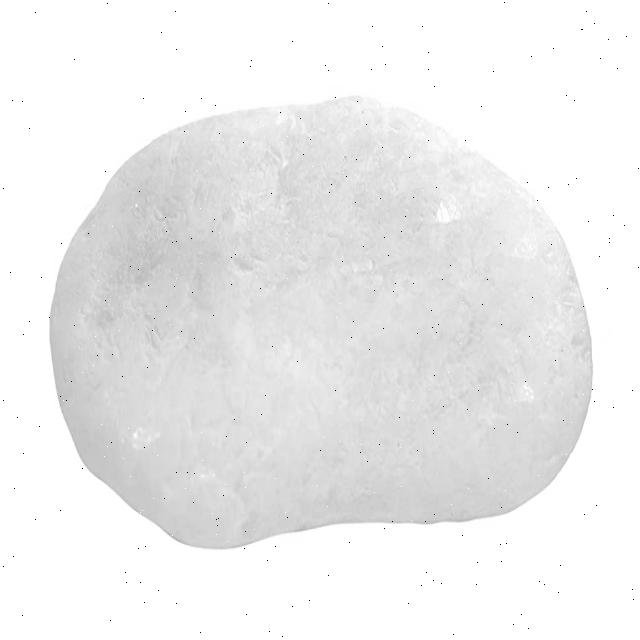Metamorphic: (31, 92, 604, 543)
